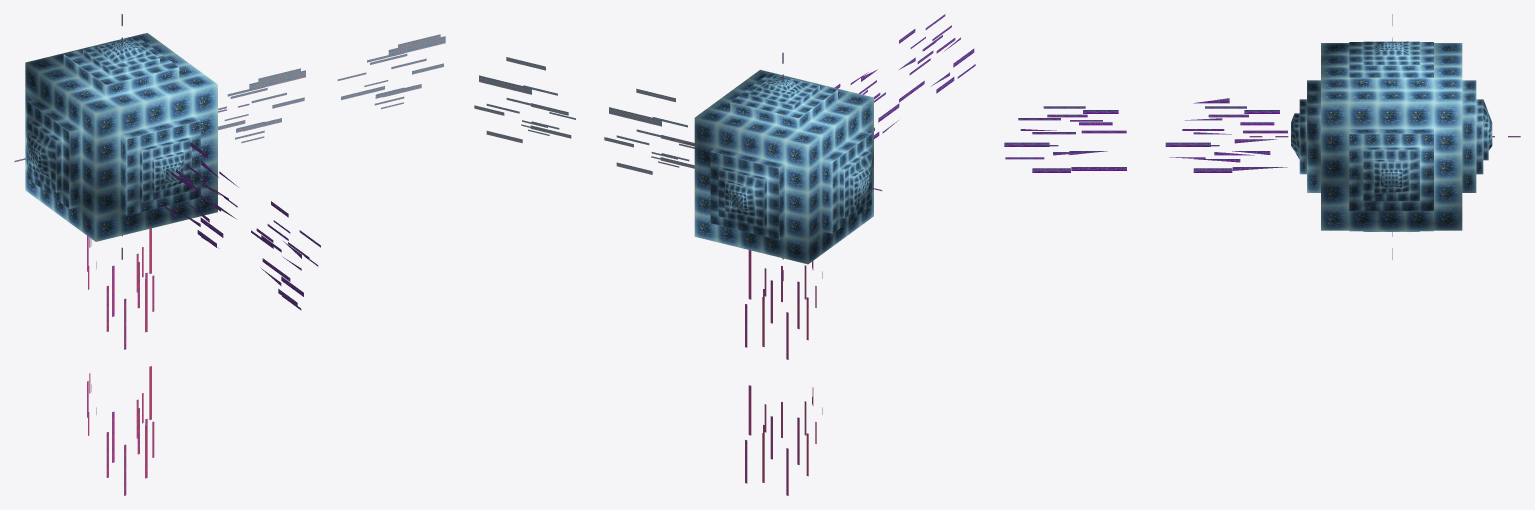
Rendered from ENVI_Abstract02.obj.
The picture shows the model from 3 angles, left to right: view 1: azimuth 30°, elevation 25°; view 2: azimuth 150°, elevation 25°; view 3: azimuth 270°, elevation 25°; orthographic projection. The views are drawn at different scales.
Visible parts, largest first — view 1: Abstract02StripsouterBox, Abstract02StripsSmallStripsX, Abstract02StripsSmallStripsY, Abstract02StripsSmallStripsZ; view 2: Abstract02StripsouterBox, Abstract02StripsSmallStripsX, Abstract02StripsSmallStripsY, Abstract02StripsSmallStripsZ; view 3: Abstract02StripsouterBox, Abstract02StripsSmallStripsZ.
Boxes of the visible parts, x1,y1,x2,y2 form: Abstract02StripsouterBox: [25, 33, 217, 241]; Abstract02StripsSmallStripsX: [218, 34, 445, 143]; Abstract02StripsSmallStripsY: [87, 228, 154, 495]; Abstract02StripsSmallStripsZ: [156, 142, 320, 310]; Abstract02StripsouterBox: [694, 69, 873, 264]; Abstract02StripsSmallStripsX: [474, 57, 694, 174]; Abstract02StripsSmallStripsY: [745, 250, 822, 495]; Abstract02StripsSmallStripsZ: [834, 14, 975, 138]; Abstract02StripsouterBox: [1291, 41, 1492, 231]; Abstract02StripsSmallStripsZ: [1004, 98, 1287, 172].
Size of what is drawn, in the model's own units: 14919 by 15720 by 15356.
Materials: 8 (7 with a texture image).
